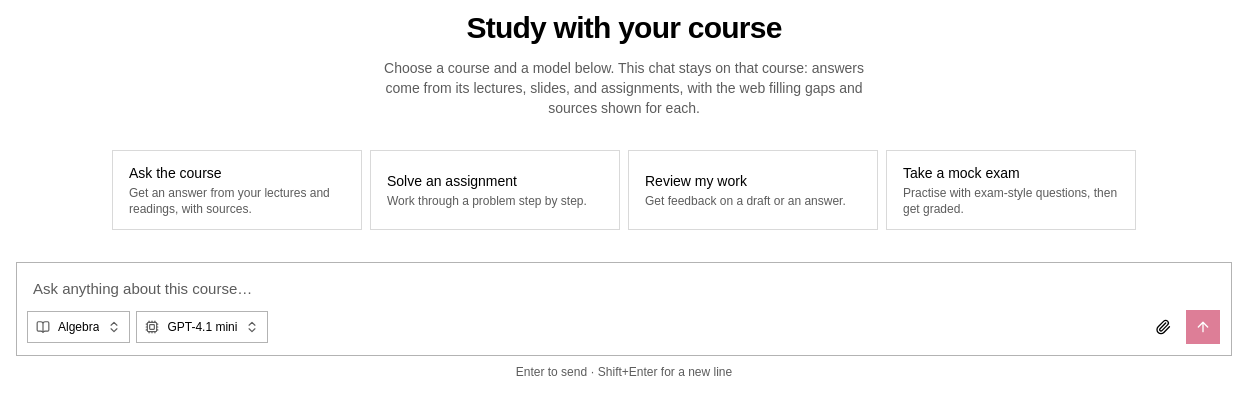
Test case: ChatPage › fills the box from a starter
Check: the dropdown named "Course" reads "Algebra", box [27,311,130,343]
Click the button "Take a mock exam". click: (1011,190)
box: [886,150,1136,230]
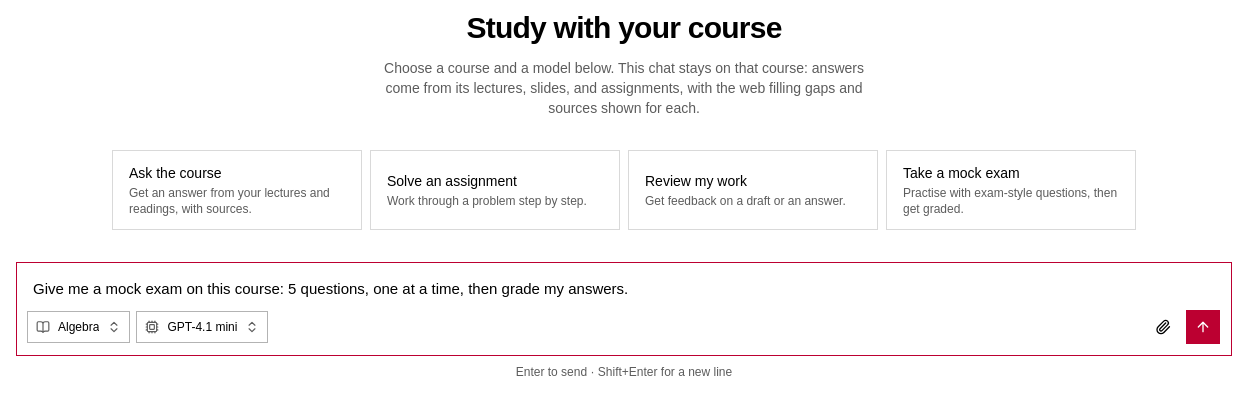
Check: the text box named "Message" holds "Give me a mock exam on this course: 5 questions, one at a time, then grade my answers.", box [17,263,1231,309]
